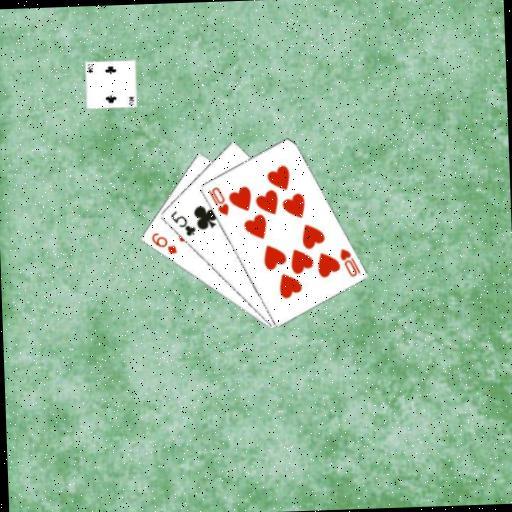10H: (205, 184, 230, 217), (336, 245, 361, 278)
5C: (167, 206, 198, 238)
6D: (147, 228, 178, 256)
